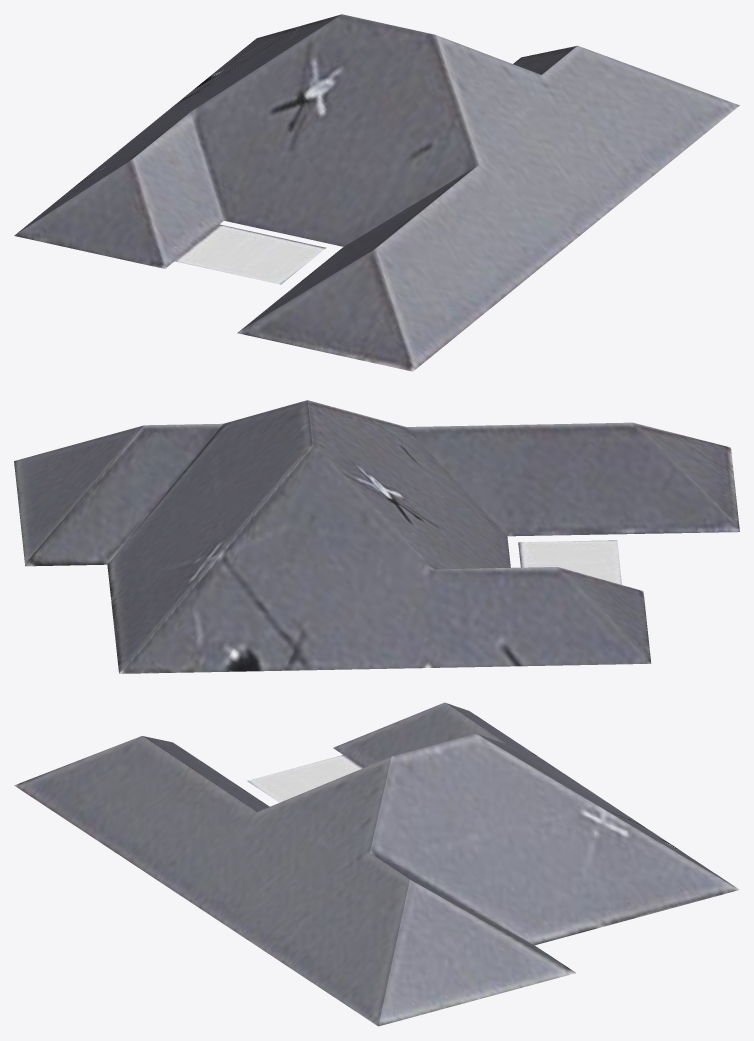
File: BK39_500_014026_0009_roof.obj
The picture shows the model from 3 angles, top to bottom: view 1: azimuth 30°, elevation 25°; view 2: azimuth 150°, elevation 25°; view 3: azimuth 270°, elevation 25°; orthographic projection. The views are drawn at different scales.
Visible parts, largest first — view 1: BK39_500_014026_0009_roof; view 2: BK39_500_014026_0009_roof; view 3: BK39_500_014026_0009_roof.
Boxes of the visible parts, x1=… form: BK39_500_014026_0009_roof: x1=14, y1=14, x2=739, y2=371; BK39_500_014026_0009_roof: x1=14, y1=400, x2=739, y2=673; BK39_500_014026_0009_roof: x1=14, y1=702, x2=739, y2=1026.
Size of the model in its own units: 360 by 70 by 350.
1 material, 1 textured.
